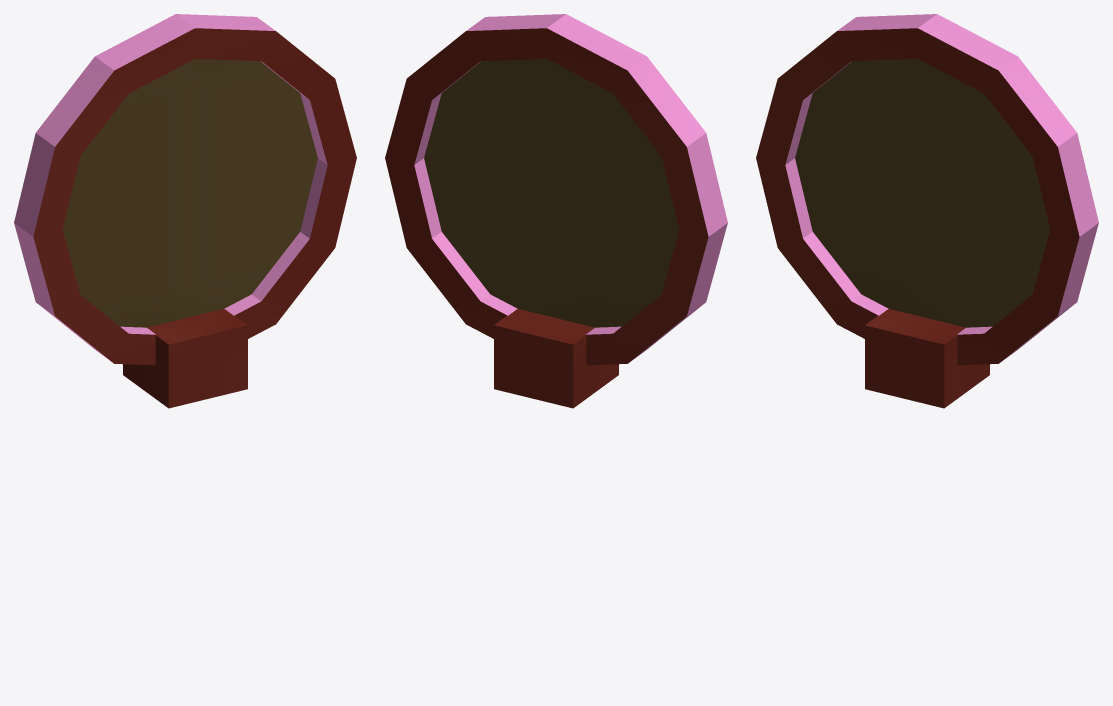
The model's file is magnifying_glass.obj.
The picture shows the model from 3 angles, left to right: view 1: azimuth 30°, elevation 25°; view 2: azimuth 150°, elevation 25°; view 3: azimuth 330°, elevation 25°; orthographic projection.
Visible parts, largest first — view 1: square_grip_socket_lens_and_open_rim; view 2: square_grip_socket_lens_and_open_rim; view 3: square_grip_socket_lens_and_open_rim.
Boxes of the visible parts, box(x1,y1,x2,y2) form: square_grip_socket_lens_and_open_rim: box(14, 14, 356, 408); square_grip_socket_lens_and_open_rim: box(385, 14, 727, 408); square_grip_socket_lens_and_open_rim: box(756, 14, 1098, 408).
Size of the model in its own units: 0.3312 by 0.6344 by 0.0812.
